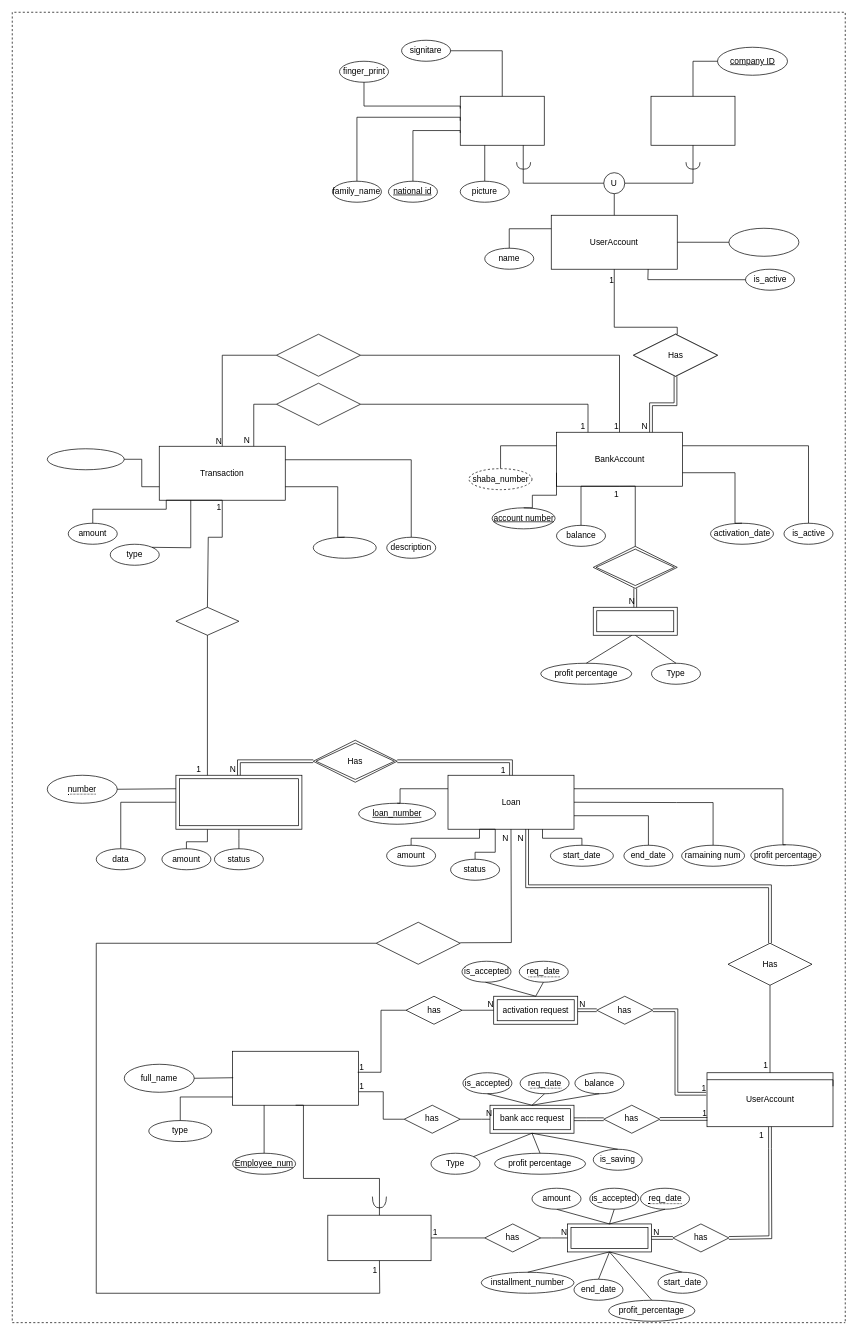
Image size: 858x1336. Some labels were removed from this diagram. Here are the shapes that lost their labels. From the top down, the centre of each, then its label:
At [502,120]: "Physical".
At [692,120]: "Legal".
At [763,242]: "user ID".
At [318,355]: "has origin".
At [318,404]: "has destination".
At [85,459]: "transaction number".
At [344,547]: "date".
At [635,567]: "Is".
At [207,621]: "paid".
At [635,621]: "Saving account".
At [238,802]: "Installment".
At [418,943]: "accept by".
At [295,1078]: "Employee".
At [379,1237]: "Manager".
At [609,1237]: "loan request".
